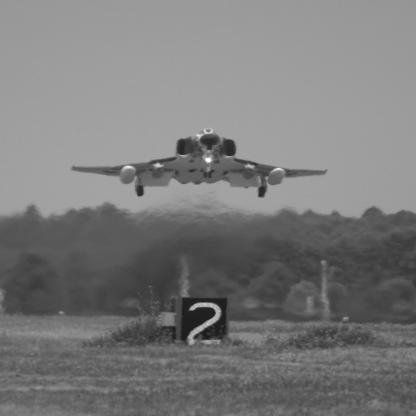F4: (71, 129, 329, 199)
